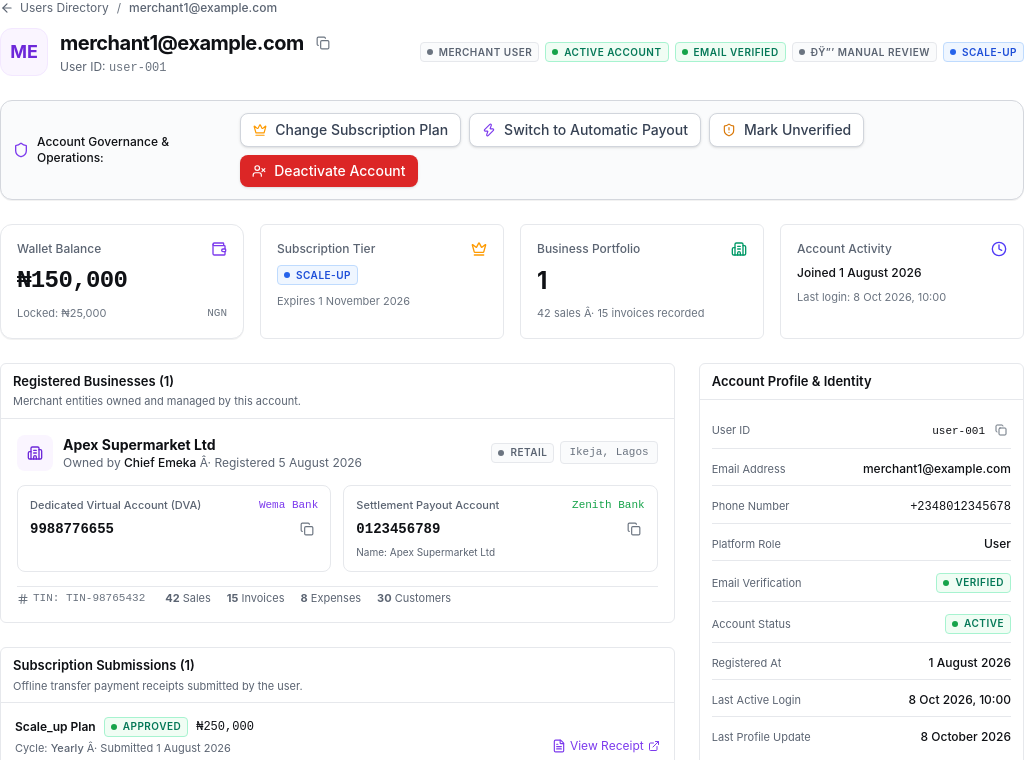
Test case: AdminUserDetail Page › opens ChangePlanModal when clicking Change Subscription Plan
The image size is (1024, 760).
Expected: the heading "merchant1@example.com" is shown, [60, 28, 304, 56]
Click the button "Change Subscription Plan": (351, 130) [240, 113, 461, 147]
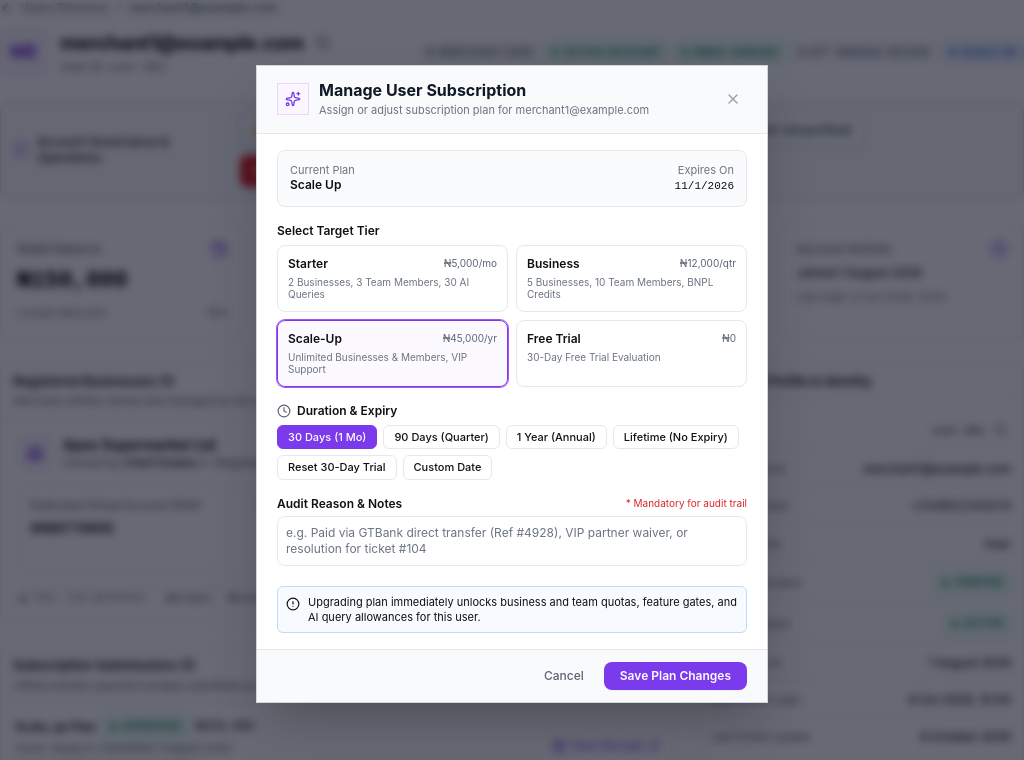
Expected: the heading "Manage User Subscription" is shown, [319, 80, 526, 100]
Expected: the text "Assign or adjust subscription plan for merchant1@example.com" is shown, [319, 102, 649, 118]
